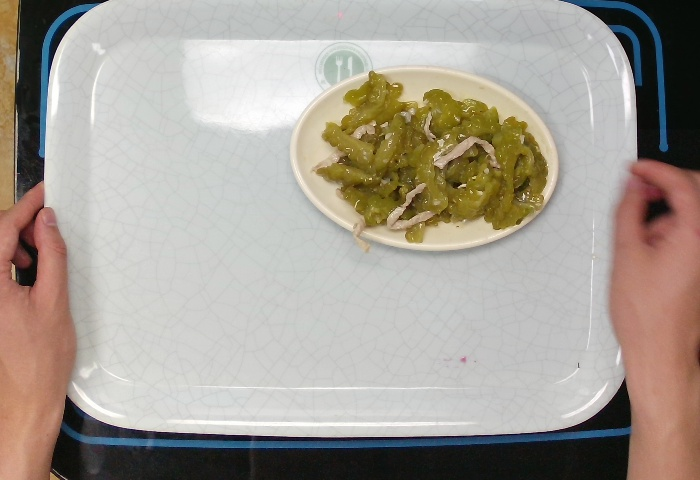JYsf-Tuo_Yuan_Wan: (284, 61, 561, 259)
